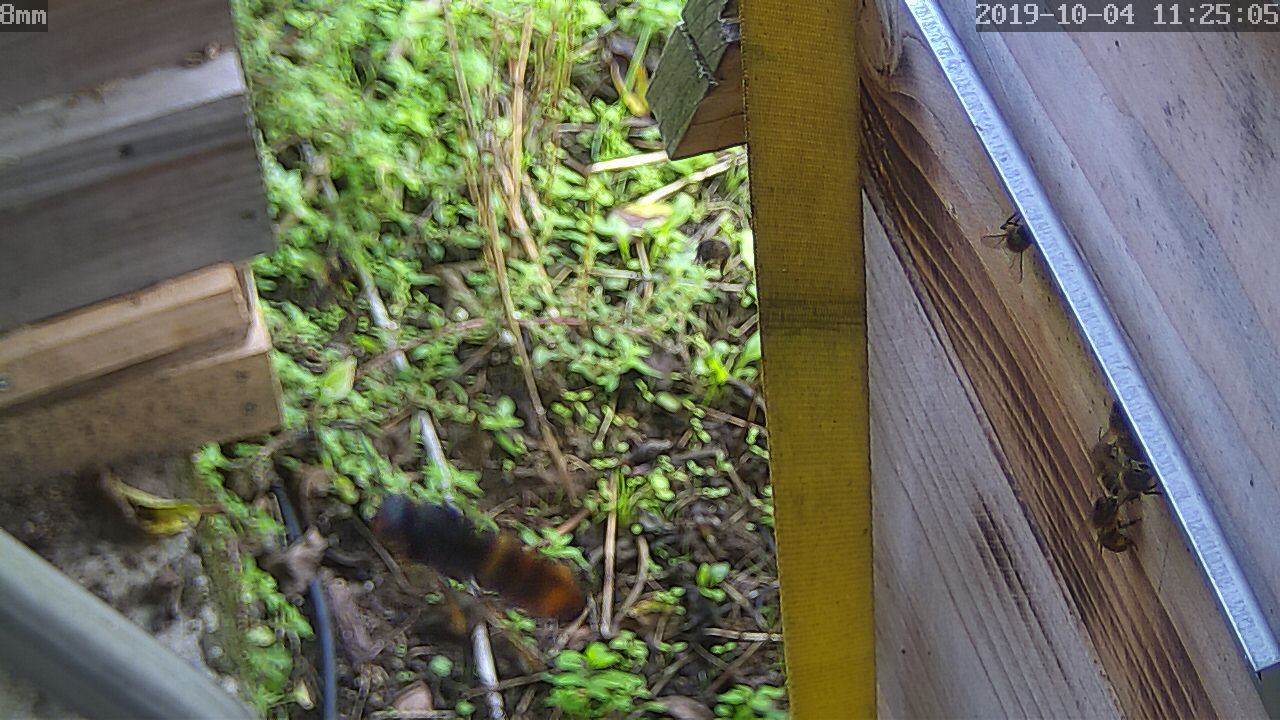bee: (1081, 489, 1140, 558), (976, 207, 1033, 264)
hornet: (325, 466, 598, 652)
